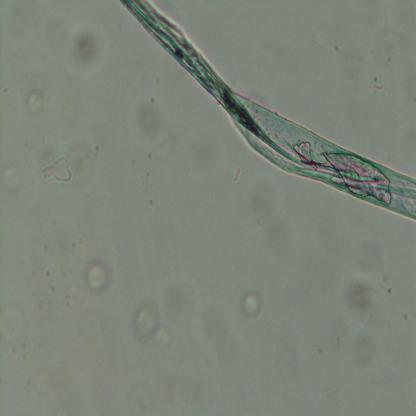Background material: (338, 269, 382, 321), (132, 294, 171, 350), (136, 97, 173, 152), (68, 25, 108, 75), (42, 155, 76, 185), (85, 259, 111, 296), (239, 286, 263, 318), (72, 142, 102, 167), (2, 163, 24, 193), (26, 88, 46, 113), (314, 25, 330, 49), (372, 78, 387, 96), (42, 261, 54, 280), (232, 166, 242, 185)
Cotton: (119, 0, 416, 222)
